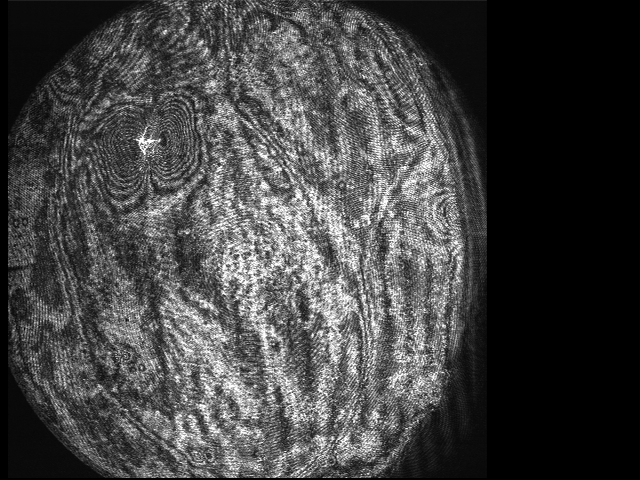plume: (92, 97, 202, 201)
